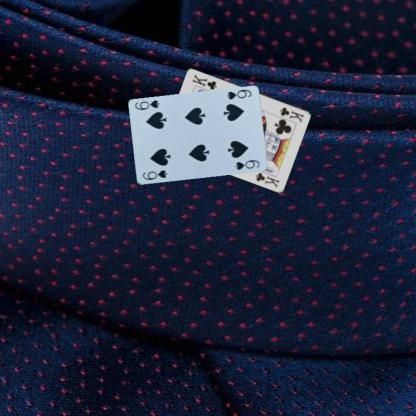6s: (224, 87, 253, 101), (140, 168, 168, 182)
Kc: (277, 105, 305, 124)
